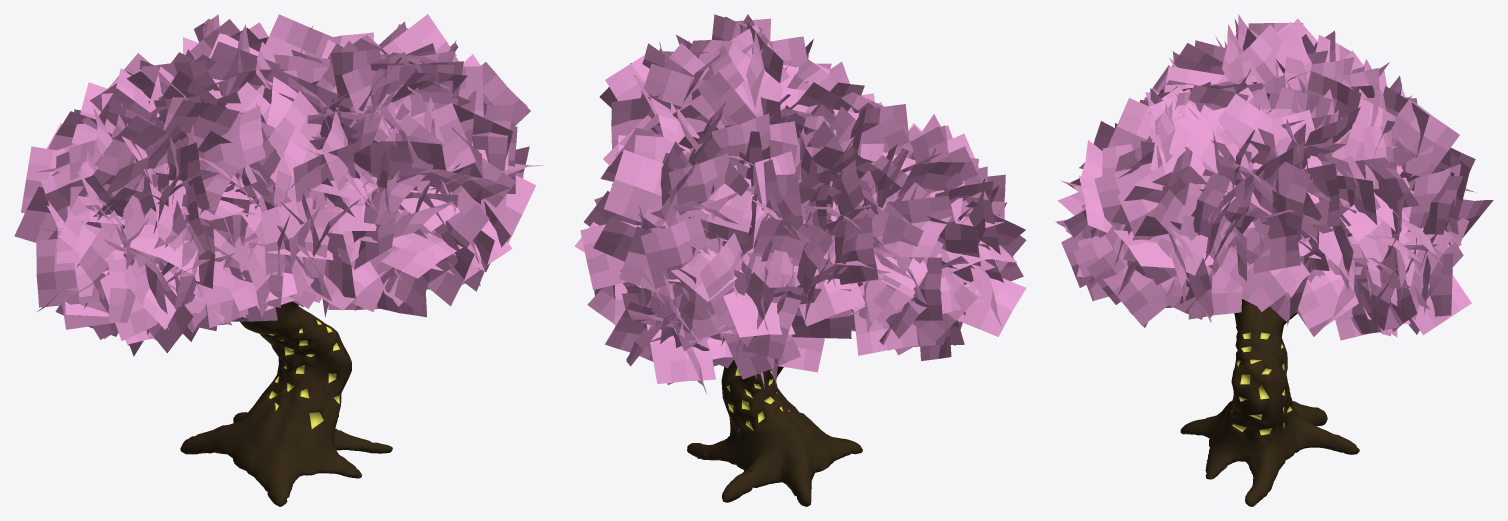
Rendered from Spirittree.fbx.
3 renders of one model, left to right at view 1: azimuth 30°, elevation 25°; view 2: azimuth 150°, elevation 25°; view 3: azimuth 270°, elevation 25°, orthographic. The views are drawn at different scales.
Visible parts, largest first — view 1: tree_lp.003; view 2: tree_lp.003; view 3: tree_lp.003.
Part boxes in pixels (<box>): tree_lp.003: <box>14,14,543,506</box>; tree_lp.003: <box>574,14,1026,506</box>; tree_lp.003: <box>1055,14,1493,506</box>.
Bounding box in the file's own units: 1462 × 1318 × 1298.
